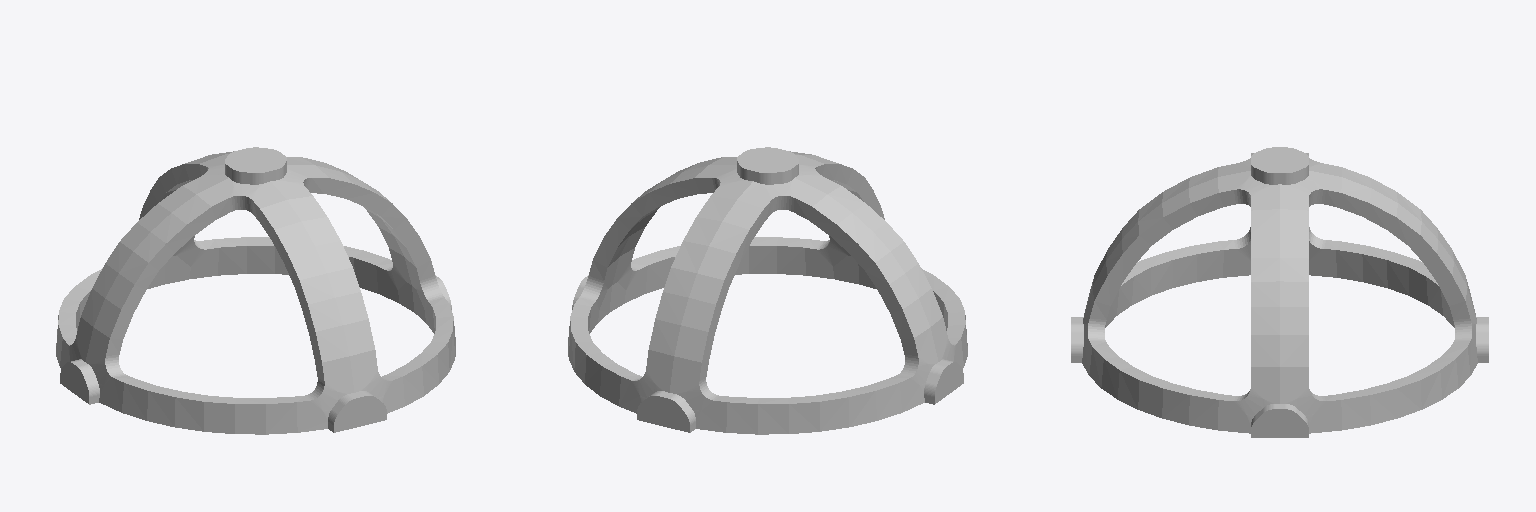
File: gyro.obj
3 views of the same model, side by side, from view 1: azimuth 30°, elevation 25°; view 2: azimuth 150°, elevation 25°; view 3: azimuth 270°, elevation 25° (orthographic).
Parts seen in each view (by area): view 1: Cube; view 2: Cube; view 3: Cube.
Boxes of the visible parts, x1,y1,x2,y2 form: Cube: [56, 147, 455, 434]; Cube: [568, 147, 967, 434]; Cube: [1071, 147, 1488, 437].
Size of the model in its own units: 3.61 by 1.82 by 3.61.